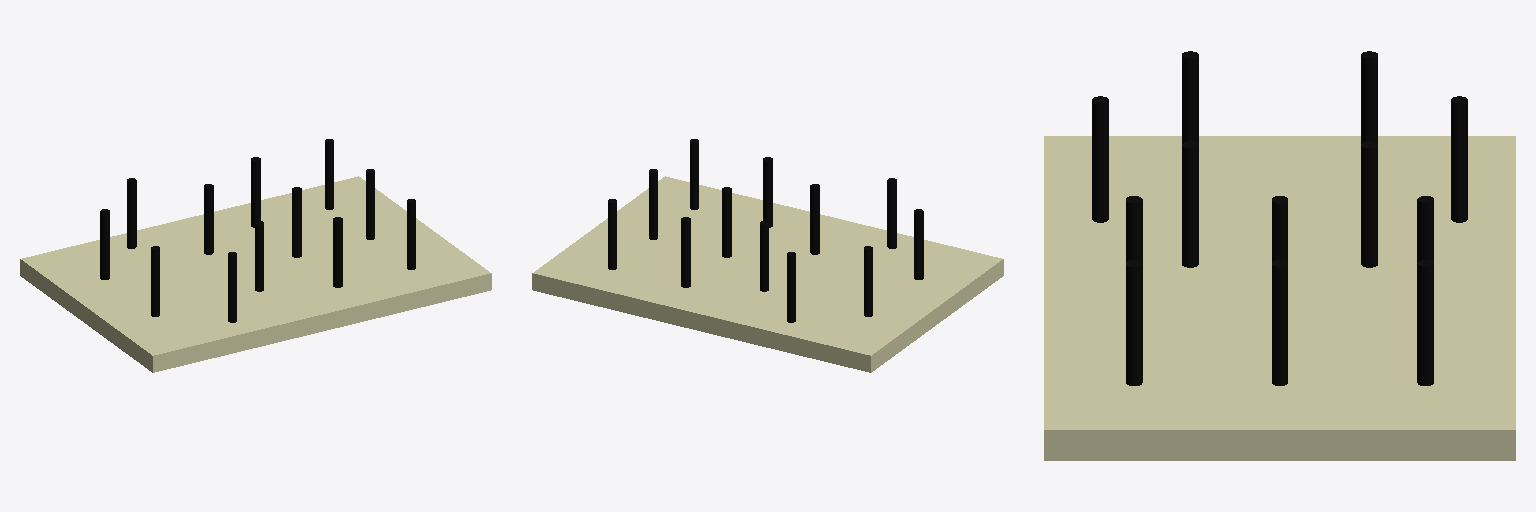
The robot description file, URDF, robot "peg_transfer_simulab":
<?xml version="1.0"?>
<!-- SPDX-License-Identifier: Apache-2.0 -->
<robot name="peg_transfer_simulab">
  <material name="ivory"><color rgba="0.86 0.85 0.70 1"/></material>
  <material name="black"><color rgba="0.08 0.08 0.08 1"/></material>
  <link name="peg_transfer_board">
    <visual>
      <geometry><box size="0.124 0.084 0.006"/></geometry>
      <material name="ivory"/>
    </visual>
    <collision>
      <geometry><box size="0.124 0.084 0.006"/></geometry>
    </collision>
    <!-- Column 1 -->
    <visual><origin xyz="-0.046 -0.016 0.0145"/><geometry><cylinder radius="0.0015" length="0.024"/></geometry><material name="black"/></visual>
    <collision><origin xyz="-0.046 -0.016 0.0145"/><geometry><cylinder radius="0.0015" length="0.024"/></geometry></collision>
    <visual><origin xyz="-0.046 0.016 0.0145"/><geometry><cylinder radius="0.0015" length="0.024"/></geometry><material name="black"/></visual>
    <collision><origin xyz="-0.046 0.016 0.0145"/><geometry><cylinder radius="0.0015" length="0.024"/></geometry></collision>

    <!-- Column 2 -->
    <visual><origin xyz="-0.027 -0.032 0.0145"/><geometry><cylinder radius="0.0015" length="0.024"/></geometry><material name="black"/></visual>
    <collision><origin xyz="-0.027 -0.032 0.0145"/><geometry><cylinder radius="0.0015" length="0.024"/></geometry></collision>
    <visual><origin xyz="-0.027 0.032 0.0145"/><geometry><cylinder radius="0.0015" length="0.024"/></geometry><material name="black"/></visual>
    <collision><origin xyz="-0.027 0.032 0.0145"/><geometry><cylinder radius="0.0015" length="0.024"/></geometry></collision>

    <!-- Column 3 -->
    <visual><origin xyz="-0.008 -0.016 0.0145"/><geometry><cylinder radius="0.0015" length="0.024"/></geometry><material name="black"/></visual>
    <collision><origin xyz="-0.008 -0.016 0.0145"/><geometry><cylinder radius="0.0015" length="0.024"/></geometry></collision>
    <visual><origin xyz="-0.008 0.016 0.0145"/><geometry><cylinder radius="0.0015" length="0.024"/></geometry><material name="black"/></visual>
    <collision><origin xyz="-0.008 0.016 0.0145"/><geometry><cylinder radius="0.0015" length="0.024"/></geometry></collision>

    <!-- Column 4 -->
    <visual><origin xyz="0.015 -0.026 0.0145"/><geometry><cylinder radius="0.0015" length="0.024"/></geometry><material name="black"/></visual>
    <collision><origin xyz="0.015 -0.026 0.0145"/><geometry><cylinder radius="0.0015" length="0.024"/></geometry></collision>
    <visual><origin xyz="0.015 0.000 0.0145"/><geometry><cylinder radius="0.0015" length="0.024"/></geometry><material name="black"/></visual>
    <collision><origin xyz="0.015 0.000 0.0145"/><geometry><cylinder radius="0.0015" length="0.024"/></geometry></collision>
    <visual><origin xyz="0.015 0.026 0.0145"/><geometry><cylinder radius="0.0015" length="0.024"/></geometry><material name="black"/></visual>
    <collision><origin xyz="0.015 0.026 0.0145"/><geometry><cylinder radius="0.0015" length="0.024"/></geometry></collision>

    <!-- Column 5 -->
    <visual><origin xyz="0.042 -0.026 0.0145"/><geometry><cylinder radius="0.0015" length="0.024"/></geometry><material name="black"/></visual>
    <collision><origin xyz="0.042 -0.026 0.0145"/><geometry><cylinder radius="0.0015" length="0.024"/></geometry></collision>
    <visual><origin xyz="0.042 0.000 0.0145"/><geometry><cylinder radius="0.0015" length="0.024"/></geometry><material name="black"/></visual>
    <collision><origin xyz="0.042 0.000 0.0145"/><geometry><cylinder radius="0.0015" length="0.024"/></geometry></collision>
    <visual><origin xyz="0.042 0.026 0.0145"/><geometry><cylinder radius="0.0015" length="0.024"/></geometry><material name="black"/></visual>
    <collision><origin xyz="0.042 0.026 0.0145"/><geometry><cylinder radius="0.0015" length="0.024"/></geometry></collision>

  </link>
</robot>

--- What the picture shows (computed from the rendered views, not written in the file) ---
Views: 3 orthographic renders of the robot side by side, from view 1: azimuth 30°, elevation 25°; view 2: azimuth 150°, elevation 25°; view 3: azimuth 270°, elevation 25°.
Robot: peg_transfer_simulab — 1 links, 0 joints (none); root link peg_transfer_board; default pose: all joints at 0.
Visible links, largest first — view 1: peg_transfer_board; view 2: peg_transfer_board; view 3: peg_transfer_board.
Boxes of the visible links, box(x1,y1,x2,y2) form: peg_transfer_board: box(20, 139, 491, 372); peg_transfer_board: box(532, 139, 1003, 372); peg_transfer_board: box(1044, 51, 1515, 460).
Size in the robot's own frame: 0.124 by 0.084 by 0.0295 metres.
Geometry: primitives only (box / cylinder / sphere), no mesh files.
